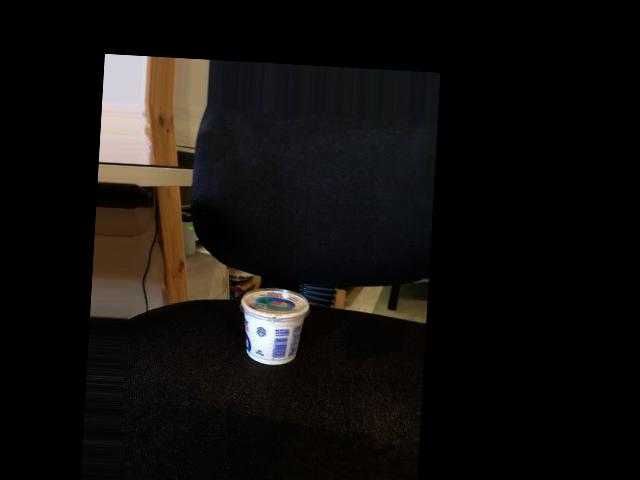cotage: (238, 283, 308, 373)
